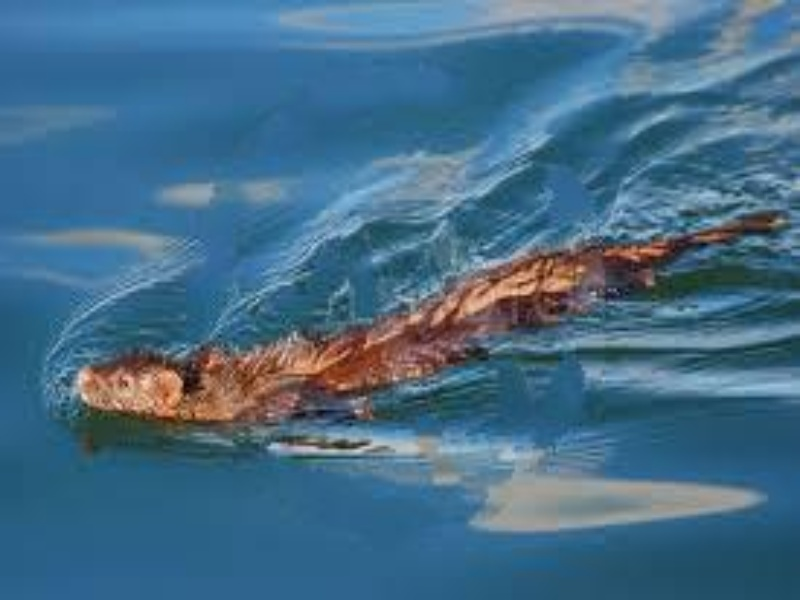minkish: (71, 224, 667, 427)
